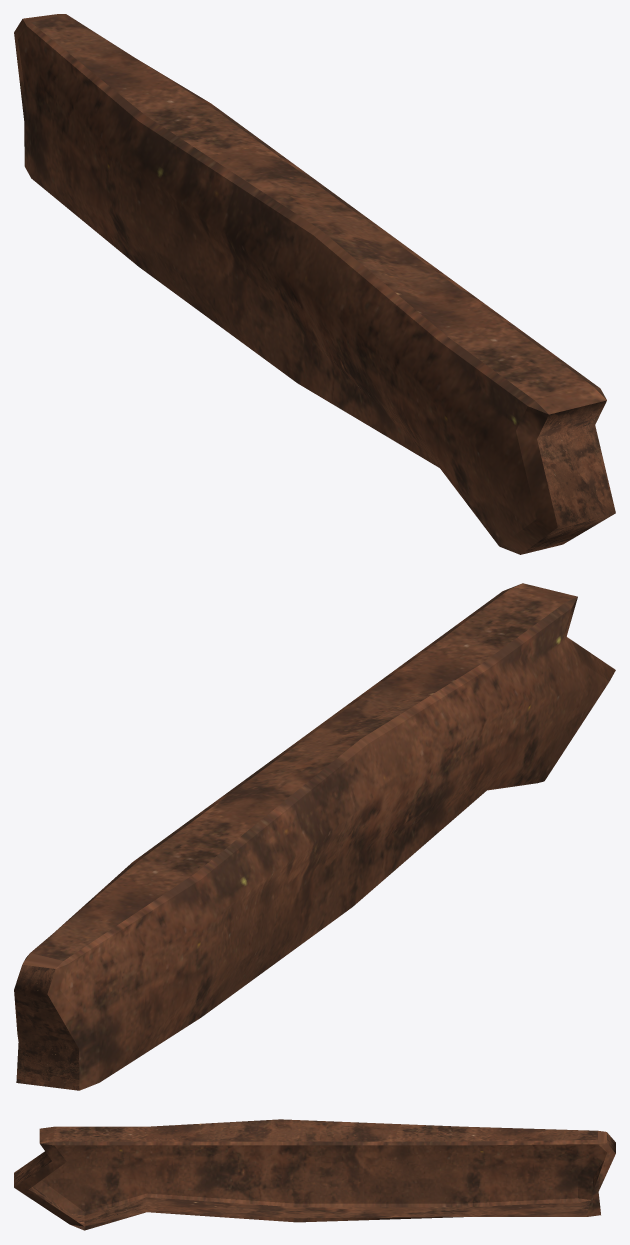
File: SpaceRock3Final.fbx
3 renders of one model, top to bottom at view 1: azimuth 30°, elevation 25°; view 2: azimuth 150°, elevation 25°; view 3: azimuth 270°, elevation 25°, orthographic. The views are drawn at different scales.
Visible parts, largest first — view 1: Rock3; view 2: Rock3; view 3: Rock3.
Boxes of the visible parts, x1,y1,x2,y2 form: Rock3: [14, 14, 615, 554]; Rock3: [14, 583, 615, 1090]; Rock3: [14, 1119, 615, 1230].
Size of the model in its own units: 5.06 by 9.49 by 53.78.
